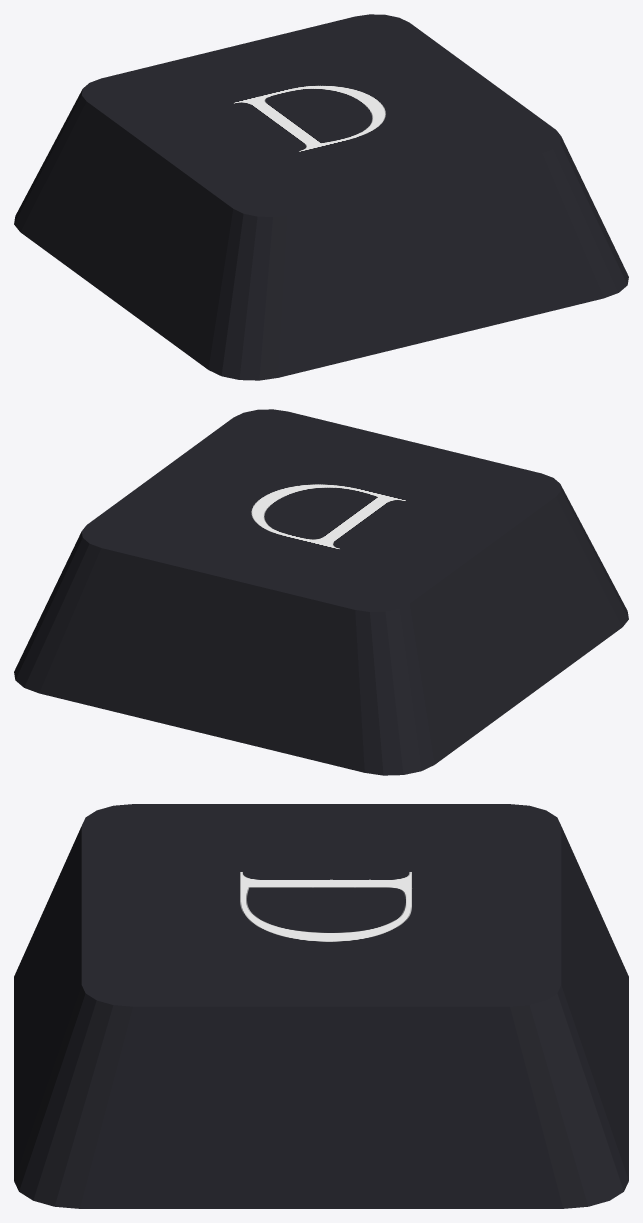
File: KeyBoradD.obj
3 renders of one model, top to bottom at view 1: azimuth 30°, elevation 25°; view 2: azimuth 150°, elevation 25°; view 3: azimuth 270°, elevation 25°, orthographic. The views are drawn at different scales.
Visible parts, largest first — view 1: key.002; view 2: key.002; view 3: key.002.
Boxes of the visible parts, box(x1,y1,x2,y2) form: key.002: box(14, 14, 628, 380); key.002: box(14, 409, 628, 775); key.002: box(14, 804, 628, 1208).
Bounding box in the file's own units: 2 × 0.6227 × 2.
1 material, 1 textured.
